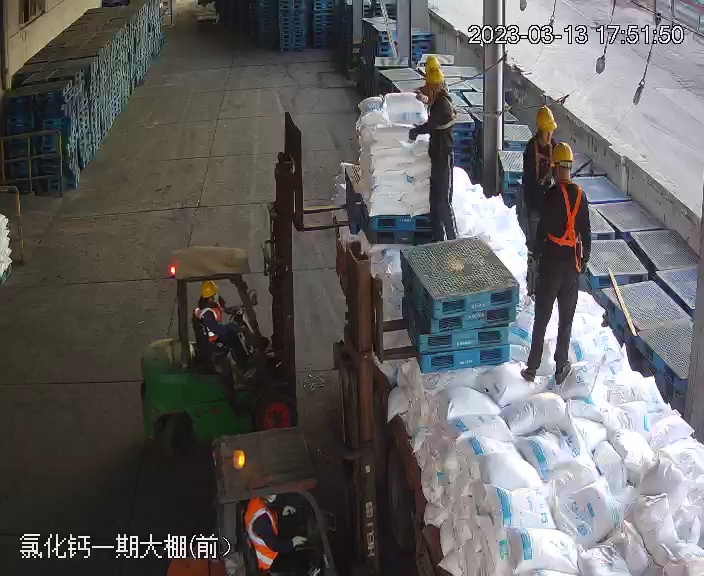belt: (542, 182, 587, 248), (429, 91, 462, 133), (528, 136, 555, 179)
head: (535, 142, 589, 213), (414, 64, 457, 118), (524, 106, 562, 157), (195, 280, 227, 320)
helmet: (534, 105, 558, 133), (549, 141, 574, 165), (421, 64, 445, 84), (421, 55, 442, 75), (201, 281, 218, 297)
people: (515, 134, 595, 393), (406, 61, 460, 242), (195, 279, 255, 378), (242, 493, 312, 575)
truck: (327, 57, 700, 576)
